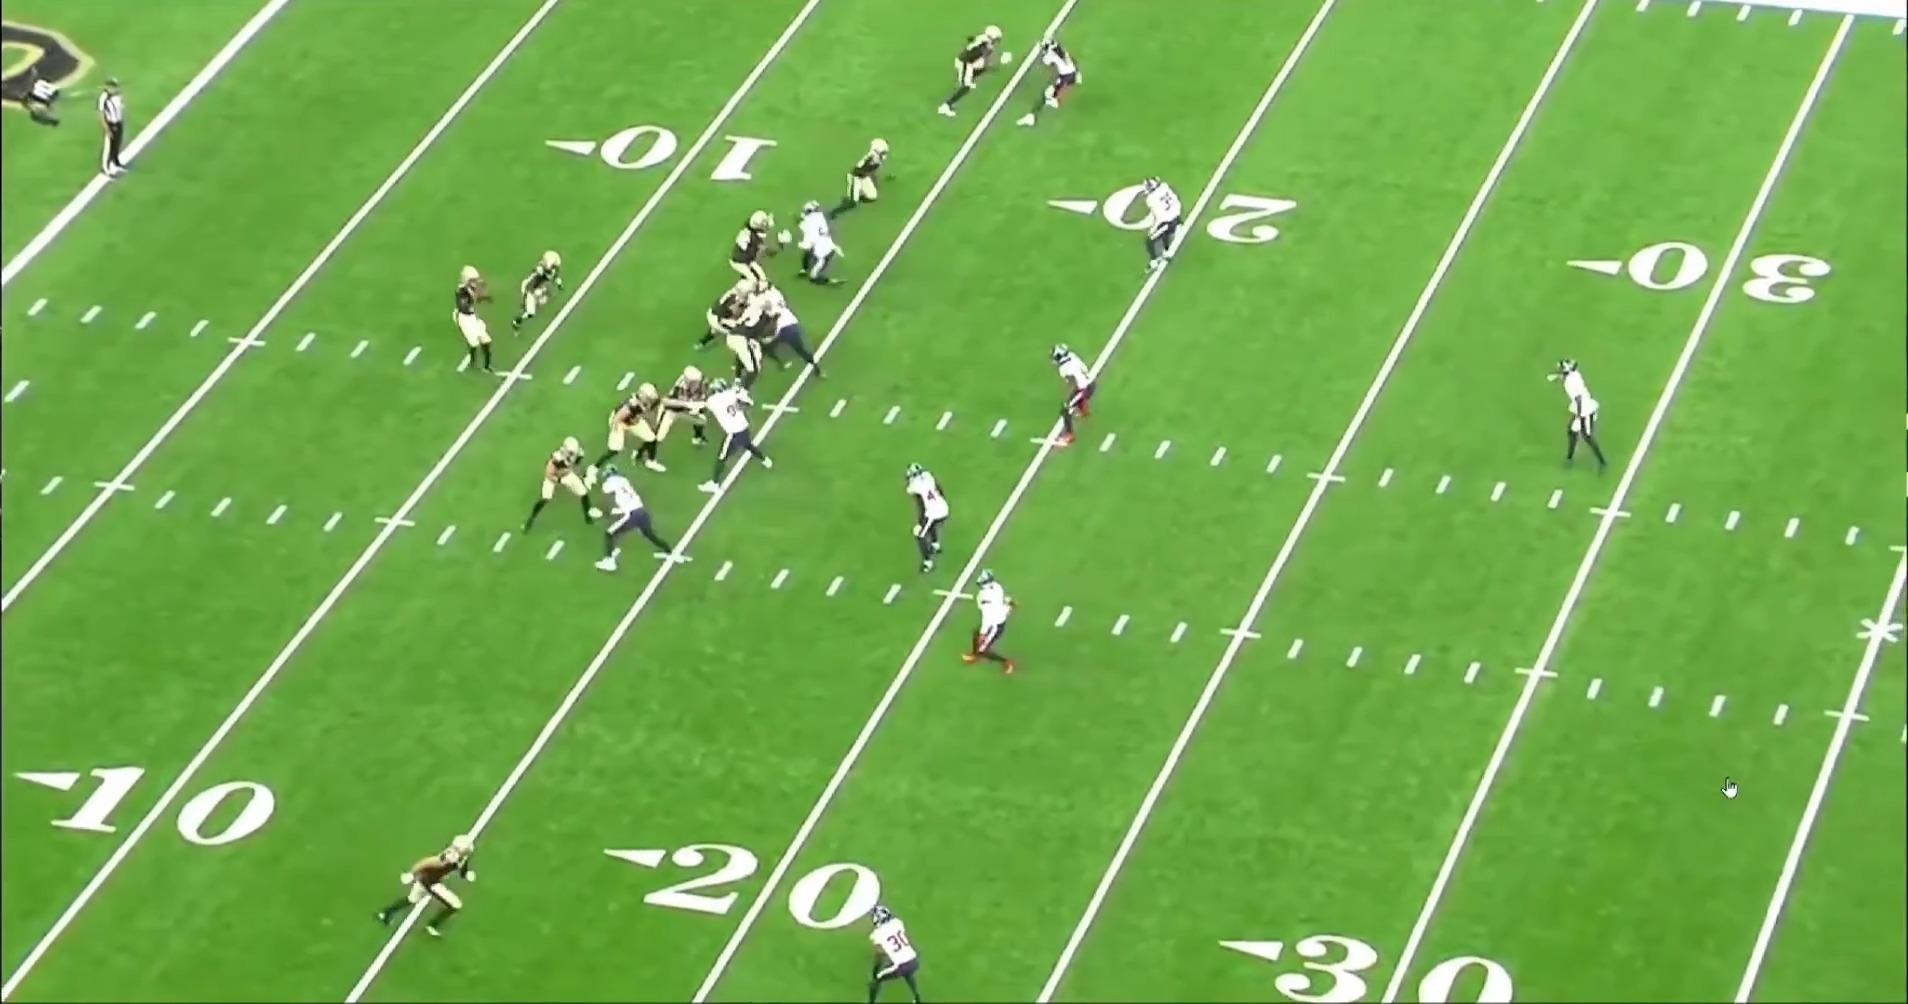player: (370, 834, 480, 946), (597, 464, 697, 575), (704, 376, 783, 492), (521, 432, 603, 535), (942, 15, 1018, 119), (588, 380, 667, 480), (443, 262, 502, 384), (763, 288, 838, 383), (1555, 359, 1613, 480), (956, 564, 1018, 677), (852, 908, 923, 1004), (826, 130, 896, 220), (1021, 36, 1086, 132), (908, 461, 960, 580), (715, 301, 775, 402), (1053, 341, 1107, 452), (792, 195, 849, 286), (695, 273, 759, 352), (1139, 171, 1187, 276), (508, 244, 563, 335), (667, 361, 722, 446), (731, 206, 786, 288)
ref: (94, 70, 135, 182)
